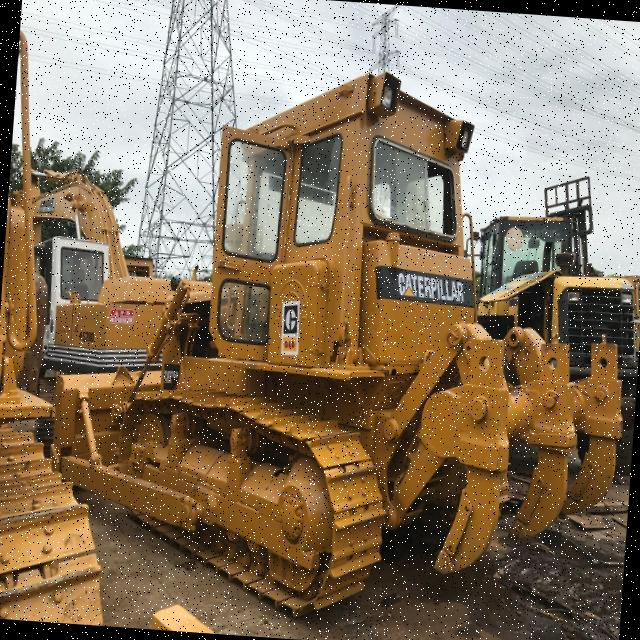Bulldozer: (37, 35, 640, 640)
